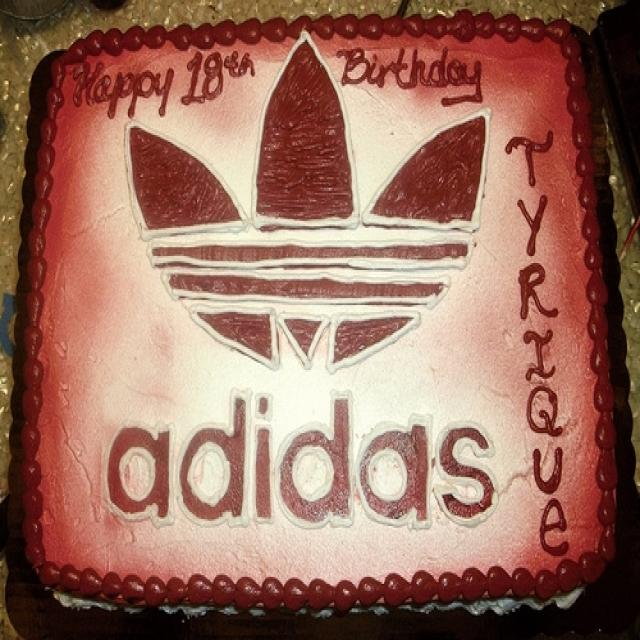adidas: (93, 21, 517, 547)
